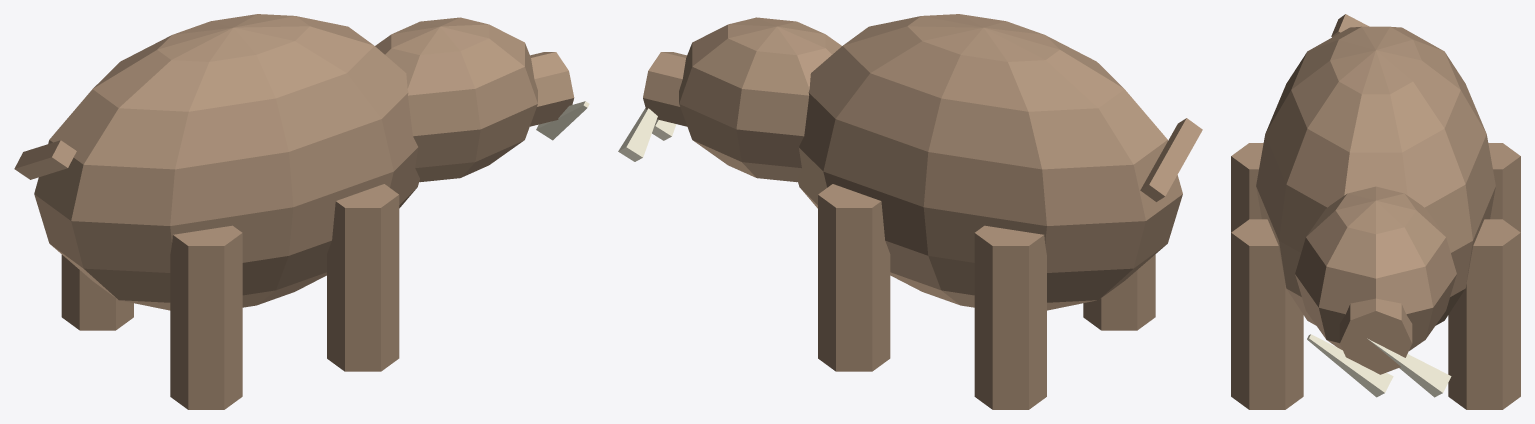
File: boar.dae
3 views of the same model, side by side, from view 1: azimuth 30°, elevation 25°; view 2: azimuth 150°, elevation 25°; view 3: azimuth 270°, elevation 25° (orthographic).
Visible parts, largest first — view 1: Sphere, Sphere.001, Cylinder.004, Cylinder.002, Cylinder.003, Cylinder, Cylinder.005, Cone; view 2: Sphere, Sphere.001, Cylinder.003, Cylinder.001, Cylinder.004, Cylinder, Cylinder.005, Cone.001; view 3: Sphere, Sphere.001, Cylinder.002, Cylinder.001, Cylinder, Cylinder.004, Cylinder.003, Cone, Cone.001, Cylinder.005.
Boxes of the visible parts, <box> form: Sphere: <box>34,14,419,310</box>; Sphere.001: <box>375,17,537,182</box>; Cylinder.004: <box>170,225,242,409</box>; Cylinder.002: <box>327,184,399,371</box>; Cylinder.003: <box>61,254,133,330</box>; Cylinder: <box>530,52,574,126</box>; Cylinder.005: <box>14,140,76,179</box>; Cone: <box>536,101,589,140</box>; Sphere: <box>797,14,1182,310</box>; Sphere.001: <box>679,17,841,182</box>; Cylinder.003: <box>974,225,1046,409</box>; Cylinder.001: <box>818,184,890,371</box>; Cylinder.004: <box>1083,254,1155,330</box>; Cylinder: <box>643,52,687,126</box>; Cylinder.005: <box>1140,118,1202,201</box>; Cone.001: <box>618,108,657,161</box>; Sphere: <box>1256,26,1495,325</box>; Sphere.001: <box>1295,186,1456,350</box>; Cylinder.002: <box>1231,219,1303,409</box>; Cylinder.001: <box>1448,219,1520,409</box>; Cylinder: <box>1339,298,1412,374</box>; Cylinder.004: <box>1231,143,1263,232</box>; Cylinder.003: <box>1488,143,1520,232</box>; Cone: <box>1307,334,1393,397</box>; Cone.001: <box>1367,338,1451,397</box>; Cylinder.005: <box>1331,14,1369,37</box>.
Size of the model in its own units: 170 by 80 by 94.4.
